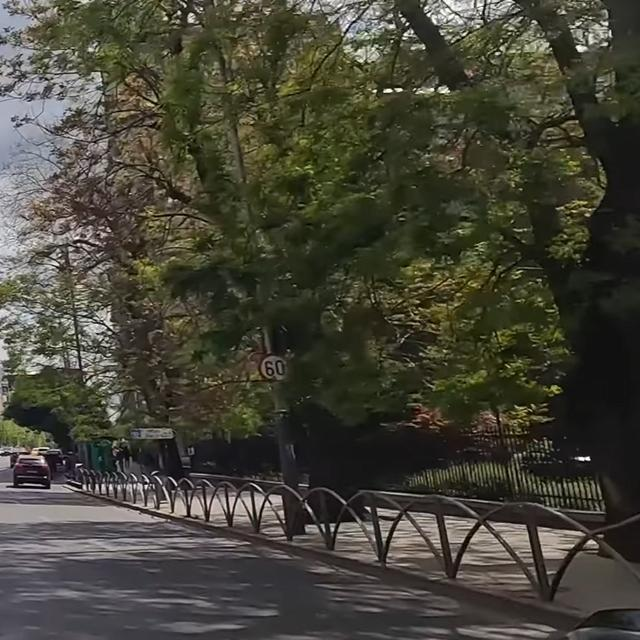forb_speed_over_60: (257, 353, 287, 381)
